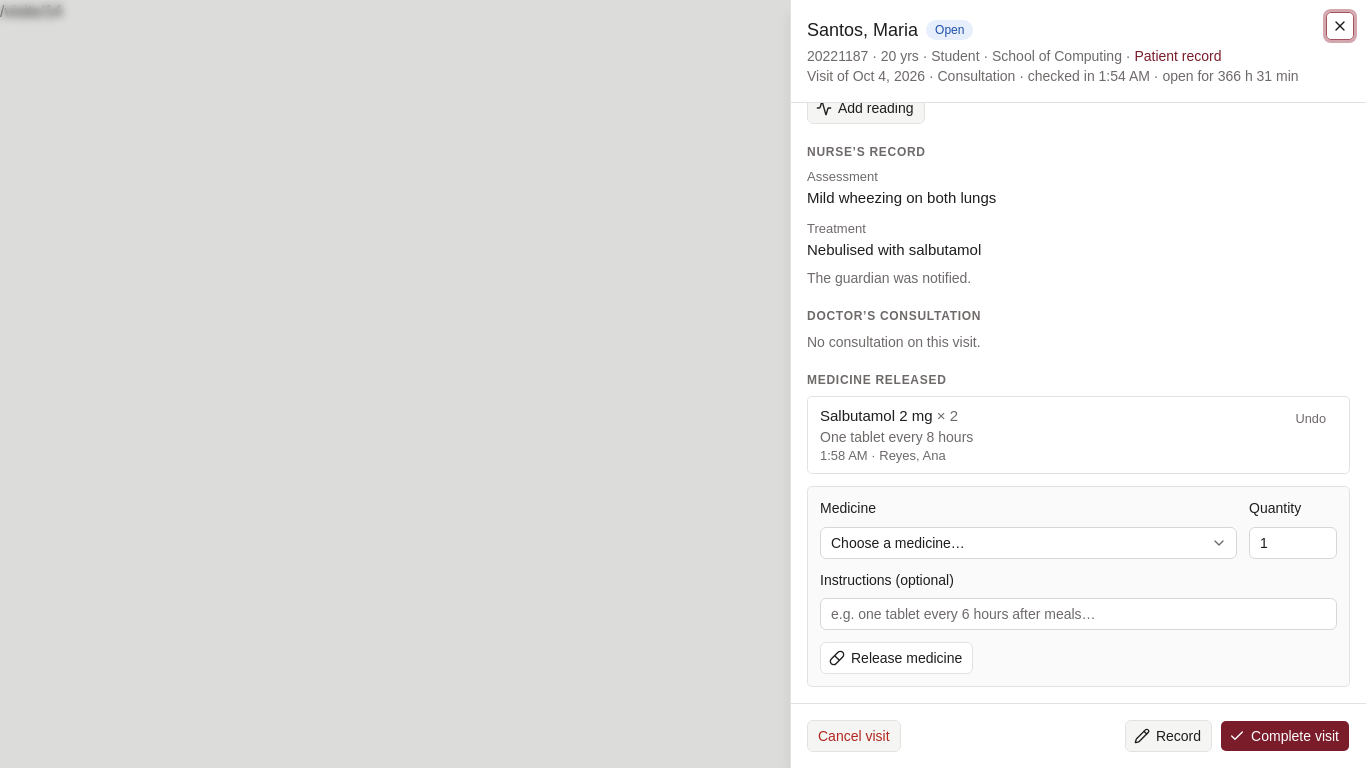
Test case: undoes a mistaken release after confirmation
This screenshot has width=1366, height=768.
(page scrolled)
Click the button with aria-label "Undo release of Salbutamol 2 mg" at (1311, 419), box [1284,405,1337,433]
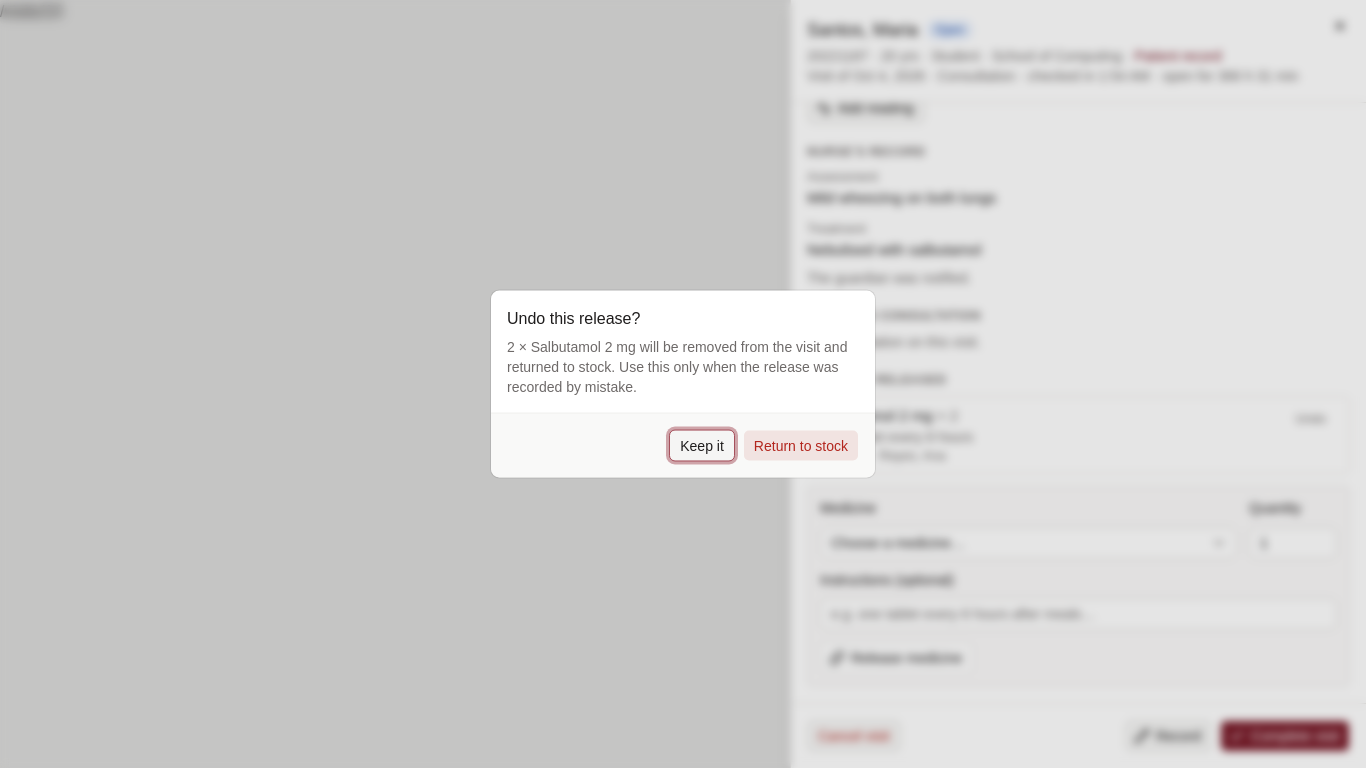
Now the text "2 × Salbutamol 2 mg will be removed" is shown, box [507,338,847,394]
Click the button "Return to stock" at (801, 446), box [743,430,859,462]
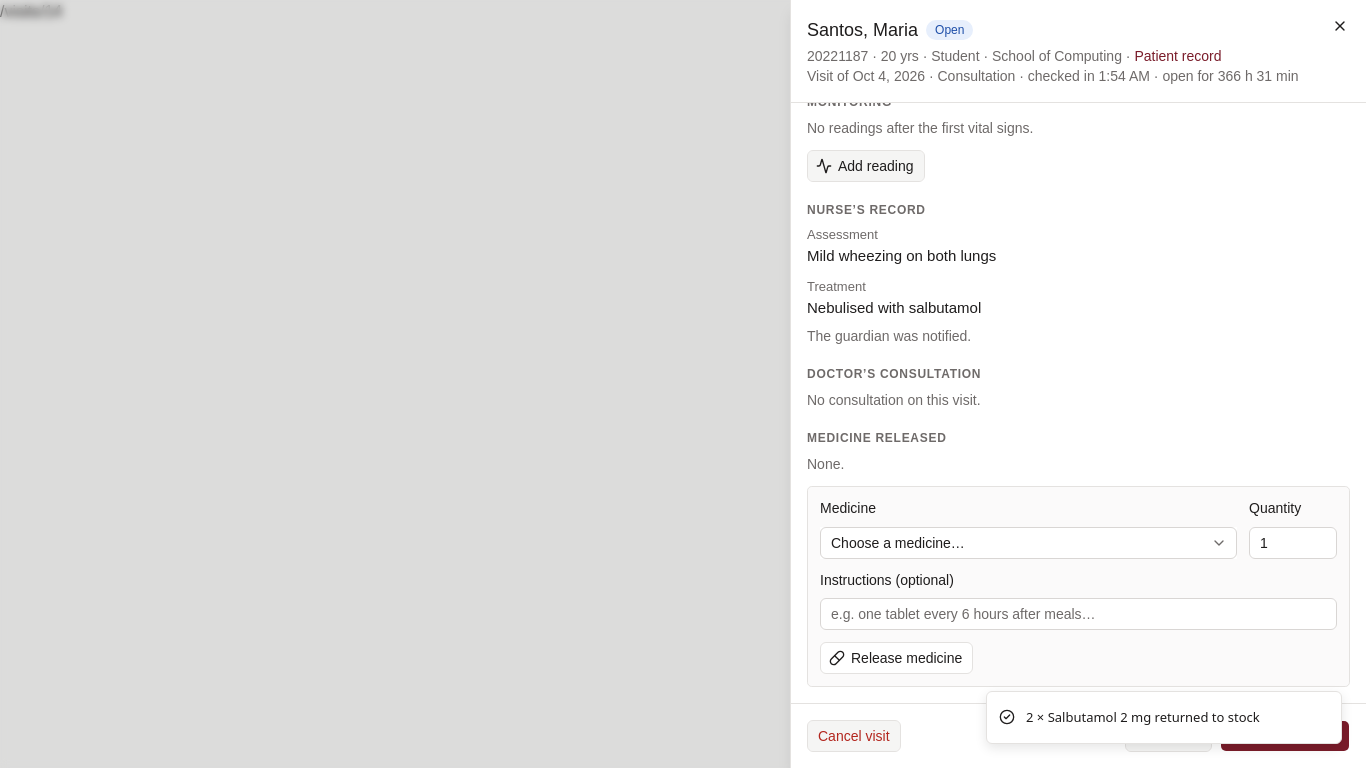
Now the text "2 × Salbutamol 2 mg returned to stock" is shown, box [1026,708,1260,727]
